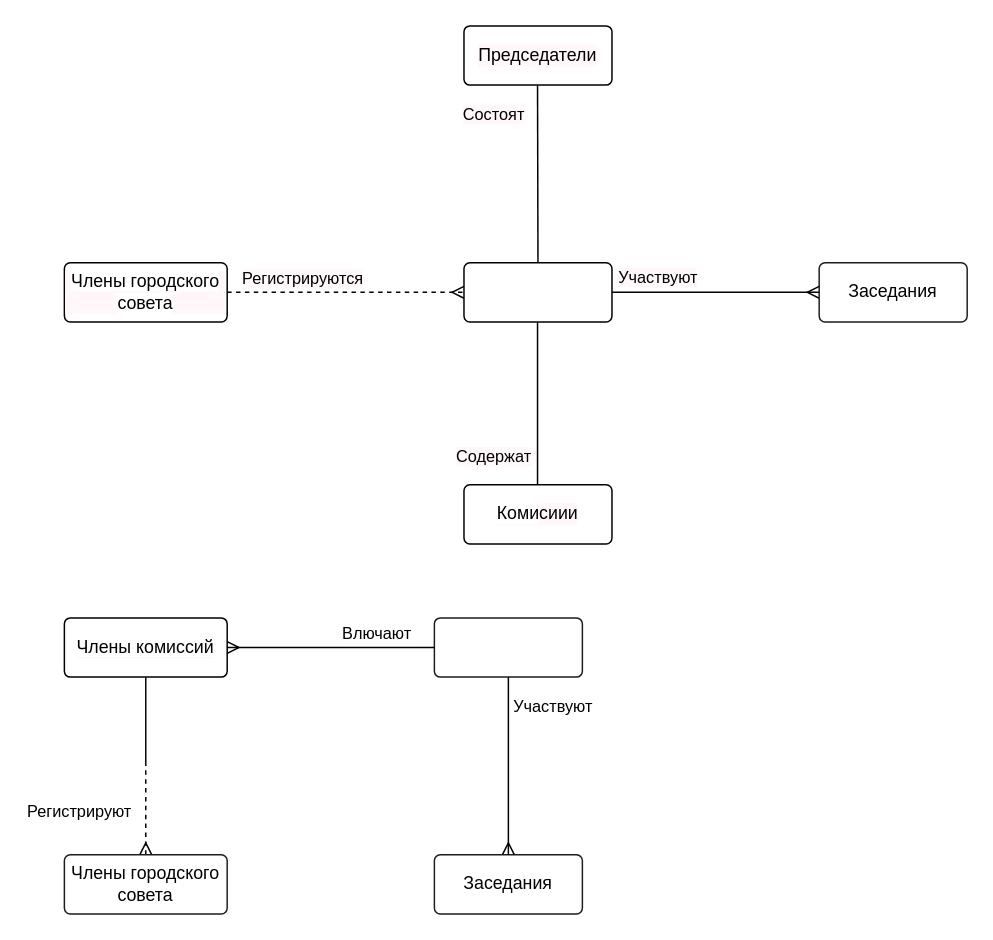
This 993x940 diagram has some shape labels left out. Here are the shapes that lost their labels. From the top down, the centre of each, then its label:
At (537,291): "Составы комиссии".
At (507,646): "Комиссии".
